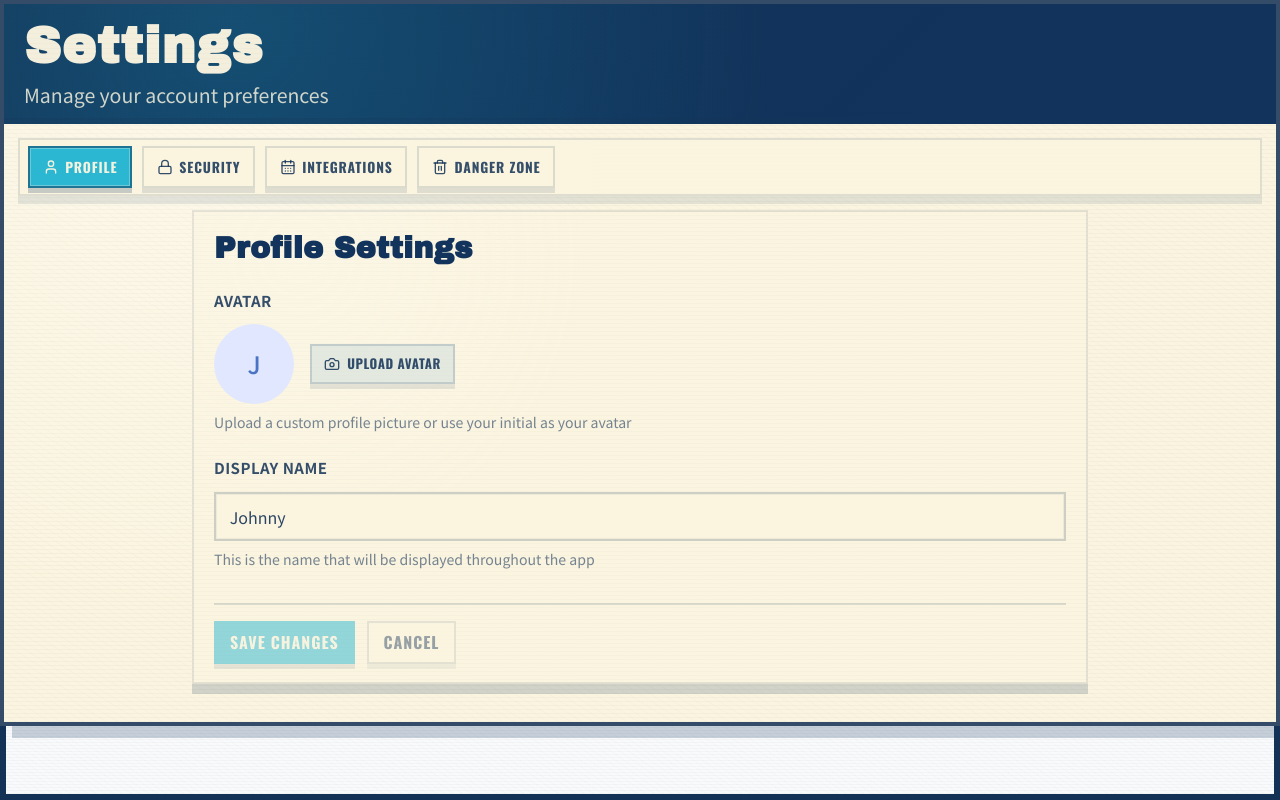
Test: SettingsPage › Profile Tab › should enable save button when changes are made
The image size is (1280, 800).
Replace the text in the field with test id "settings-input-display-name" with "New Name" at (640, 517), box [214,492,1066,542]
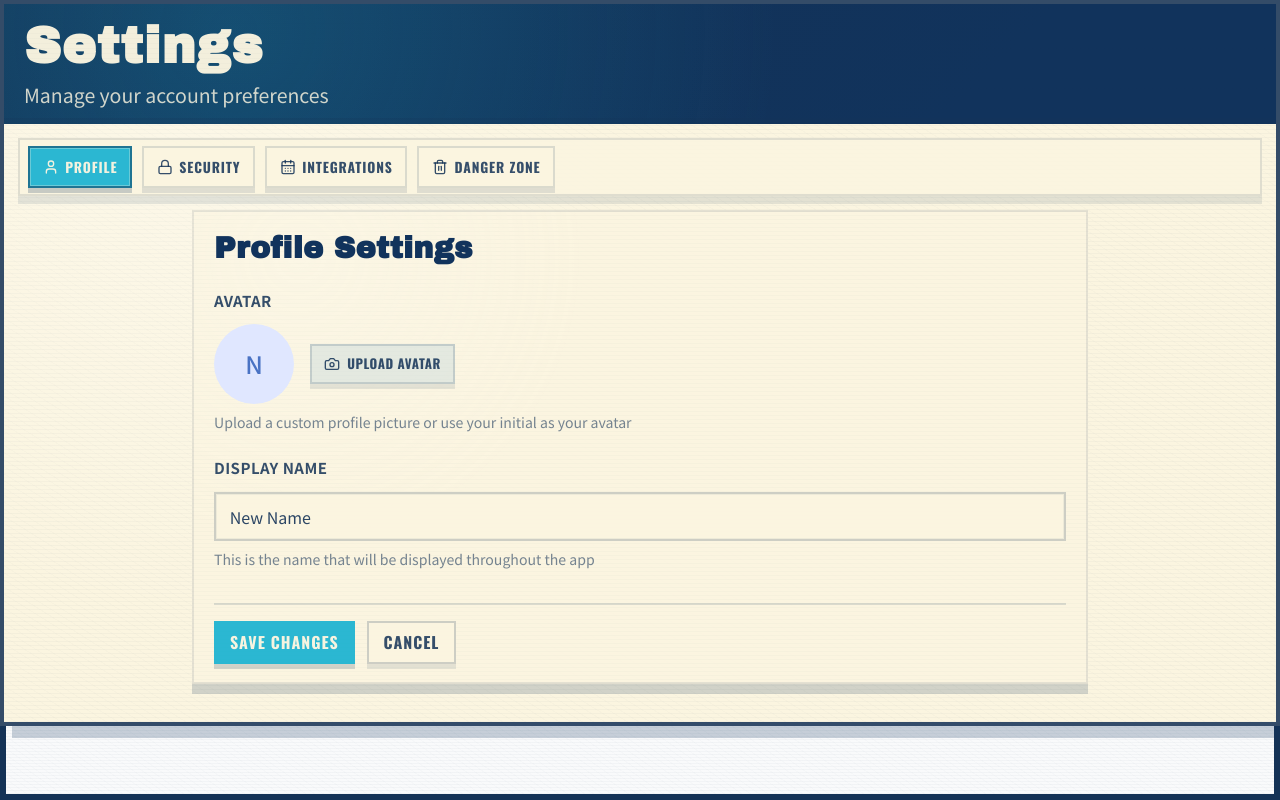
Check: the button with test id "settings-button-save" is enabled, box [214,621,355,664]
